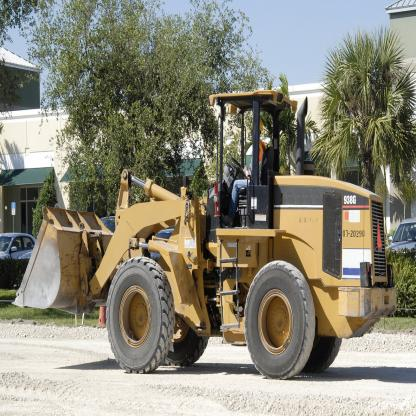bull_dozer/loader/grader: (20, 76, 405, 411)
